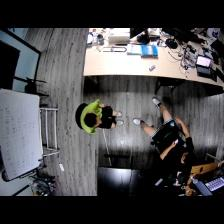normal: (133, 96, 198, 166), (79, 99, 124, 131)
